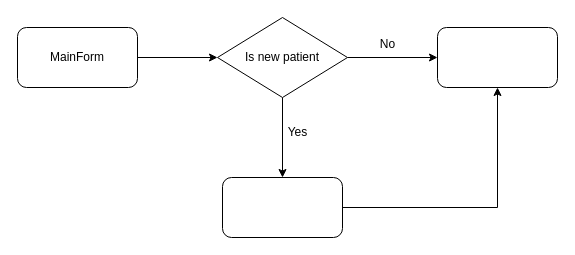
Image size: 575x255. Some labels were removed from this diagram. Each missing label, with the centre of its shape:
ComeClinicForm: (497,57)
UpdatePatientForm: (282,207)
